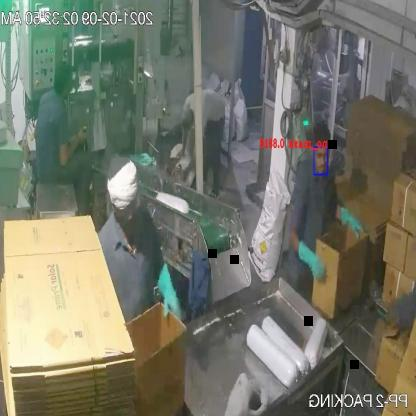glove: (296, 232, 336, 290), (152, 260, 182, 332), (328, 201, 368, 242)
no_glove: (382, 264, 416, 340), (52, 119, 94, 177)
